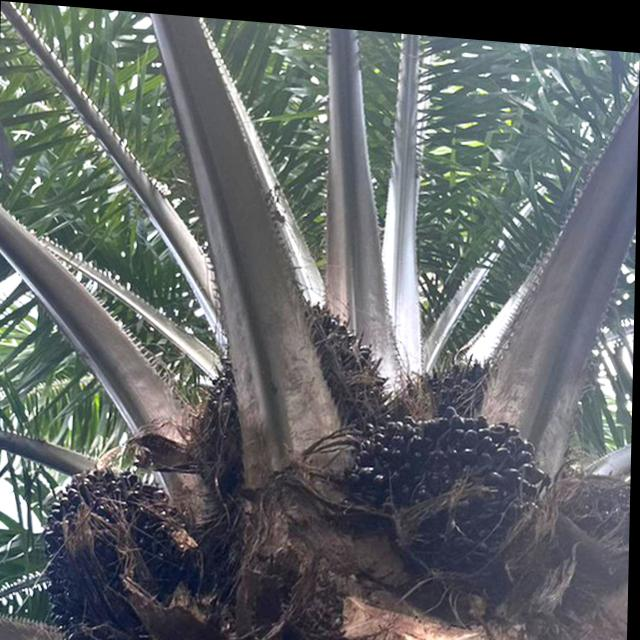unripe: (195, 283, 399, 489)
